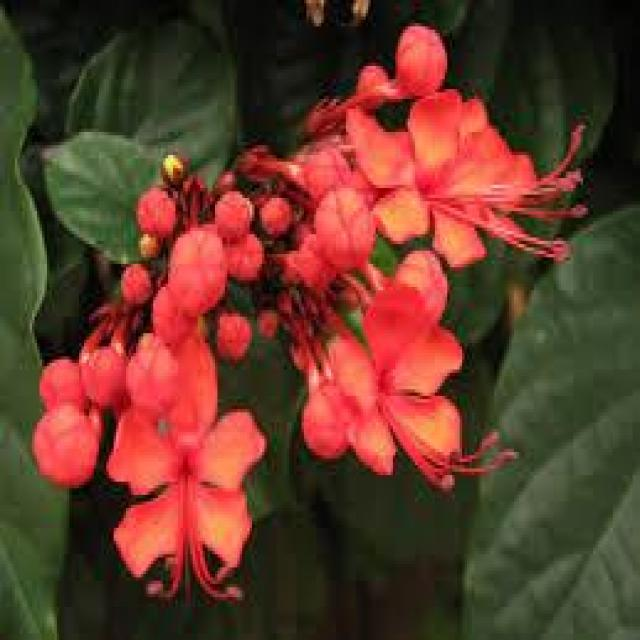organic waste: (28, 261, 261, 597), (300, 31, 587, 272), (263, 270, 510, 495)
